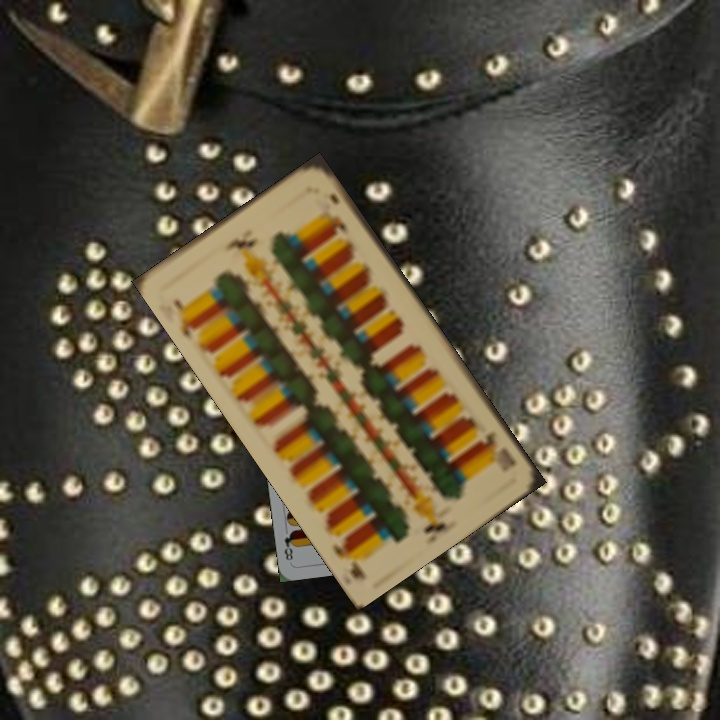E10: (476, 427, 519, 470), (170, 295, 198, 343)
